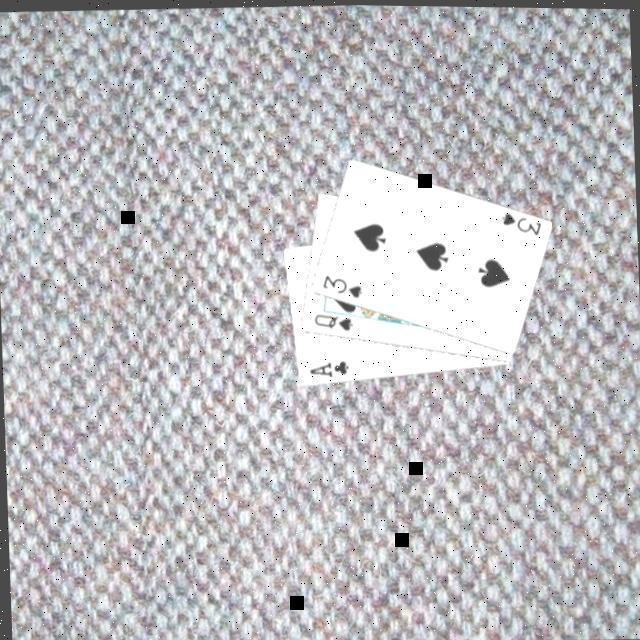3S: (318, 269, 366, 302), (498, 206, 545, 239)
AC: (306, 356, 352, 382)
QS: (311, 308, 356, 336)
